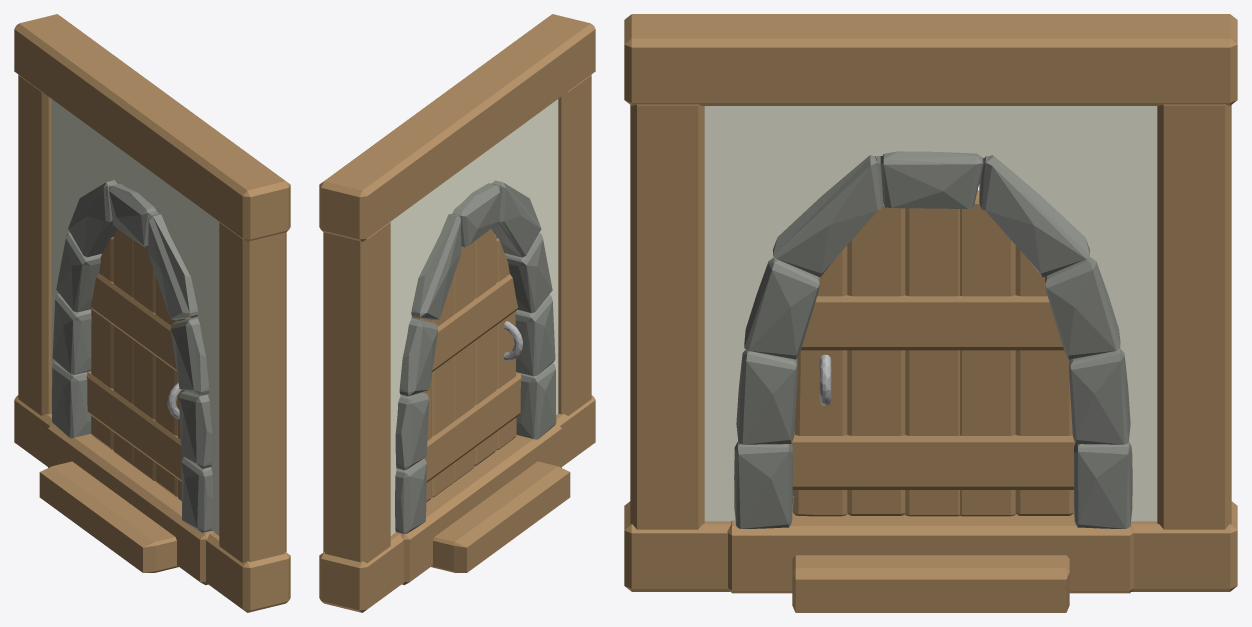
Rendered from WallWithDoor_2.fbx.
The picture shows the model from 3 angles, left to right: view 1: azimuth 30°, elevation 25°; view 2: azimuth 150°, elevation 25°; view 3: azimuth 270°, elevation 25°; orthographic projection. The views are drawn at different scales.
Visible parts, largest first — view 1: WallWoodV.156, WallWoodV.164; view 2: WallWoodV.156, WallWoodV.164, Torus.001; view 3: WallWoodV.156, WallWoodV.164.
Part boxes in pixels (left/top/right/bottom): WallWoodV.156: left=14, top=14, right=290, bottom=612; WallWoodV.164: left=86, top=229, right=197, bottom=501; WallWoodV.156: left=319, top=14, right=595, bottom=612; WallWoodV.164: left=411, top=229, right=521, bottom=501; Torus.001: left=504, top=321, right=522, bottom=360; WallWoodV.156: left=624, top=14, right=1237, bottom=612; WallWoodV.164: left=791, top=190, right=1075, bottom=516.
Bounding box in the file's own units: 0.7016 × 2.32 × 2.33.
